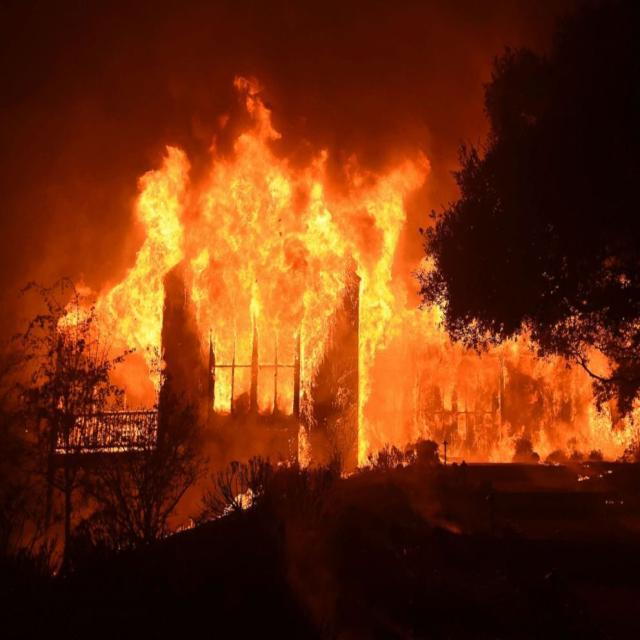Fire: (54, 70, 640, 468)
